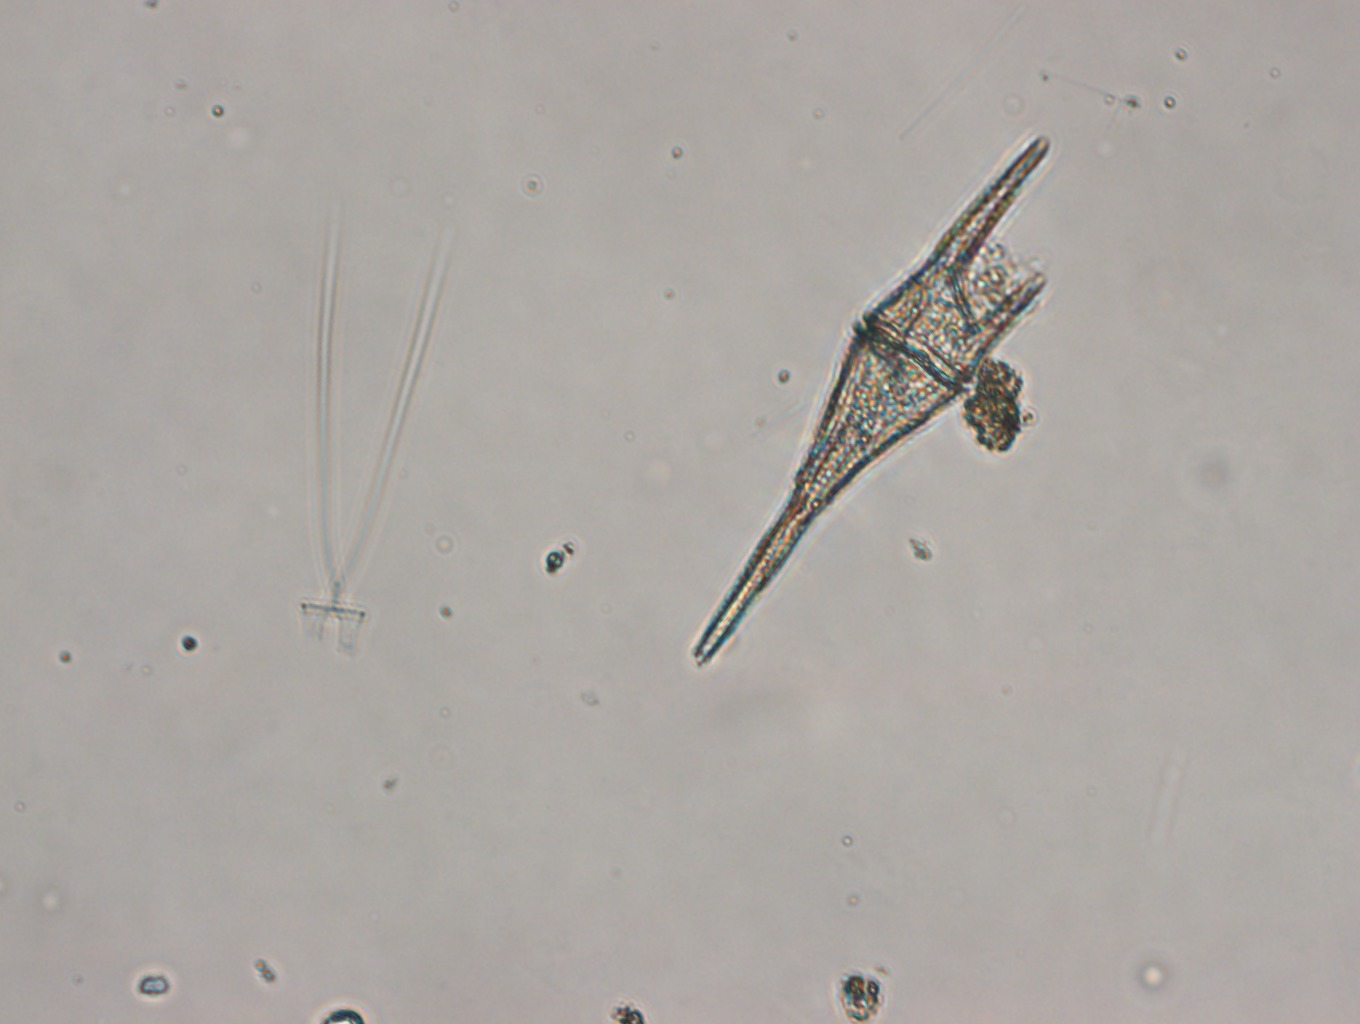ceratium furca: (690, 124, 1056, 670)
chaetoceros: (297, 185, 450, 662)
